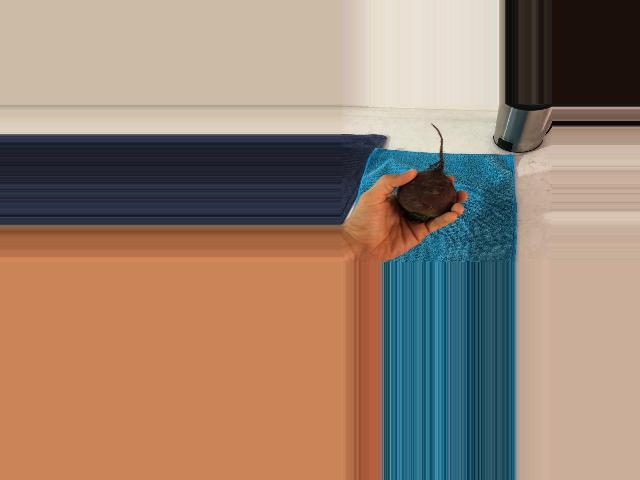beet: (397, 124, 457, 224)
